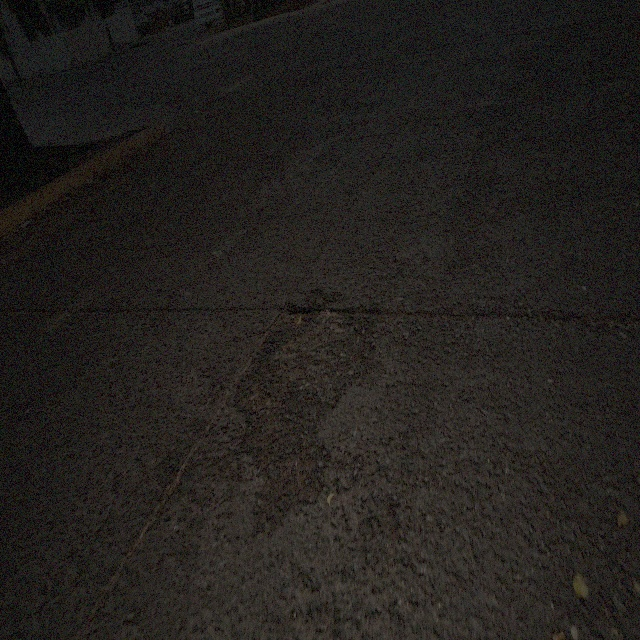pothole: (269, 299, 321, 330)
